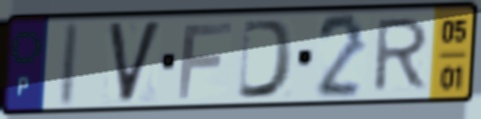2: (313, 10, 372, 104)
D: (234, 17, 297, 101)
F: (174, 20, 235, 101)
I: (54, 19, 83, 110)
R: (369, 15, 433, 95)
V: (104, 18, 166, 106)
